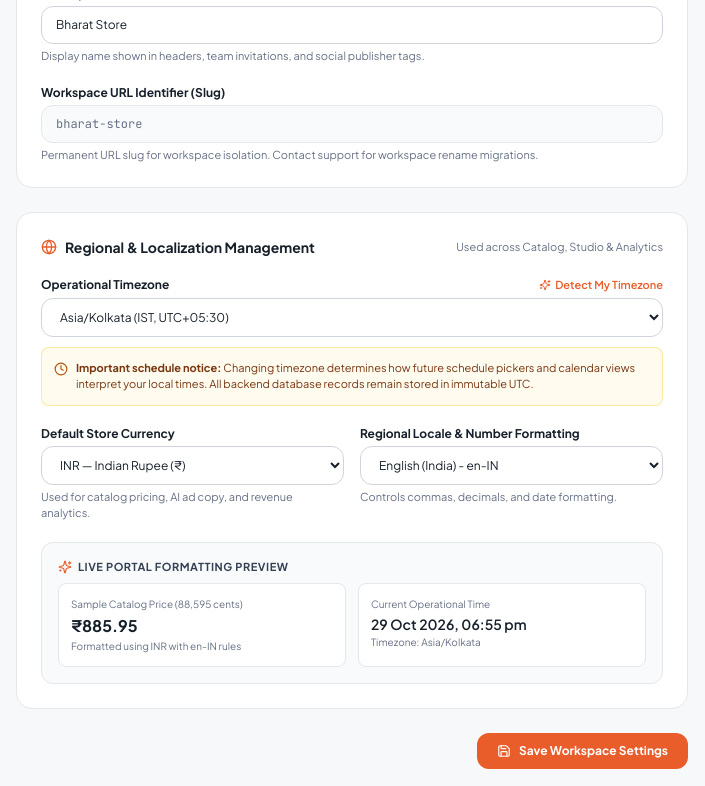
Test case: Workspace Regional & Localization Settings › auto-suggests locale when currency changes
(page scrolled)
Change currency to EUR
Step 1. Select "EUR — Euro (€)" in the dropdown labelled "Default Store Currency" → (192, 465), box [41,446,344,484]
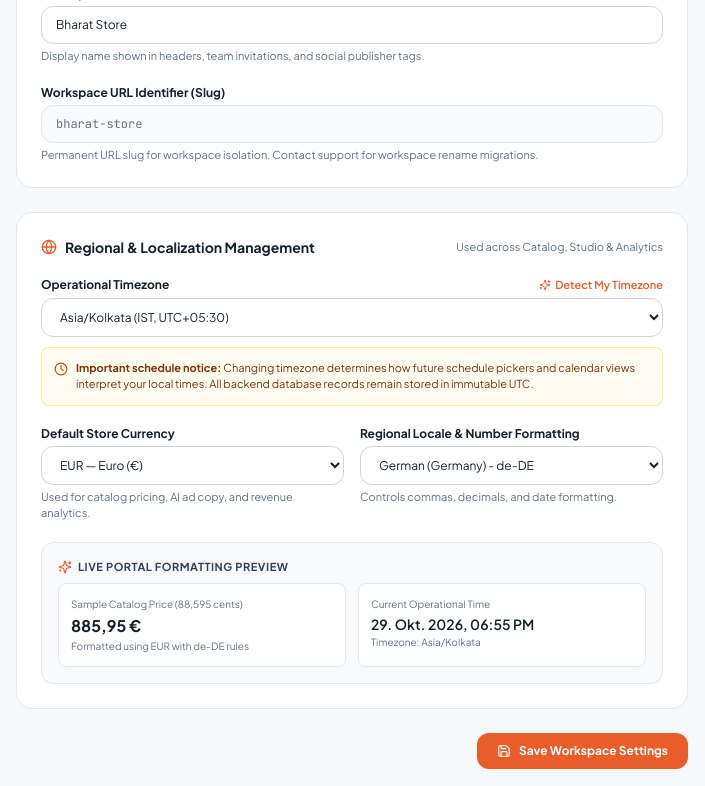
Expected: the text "885,95 €" is shown, [71,615,141,636]
Expected: the dropdown labelled "Regional Locale & Number Formatting" shows "German (Germany) - de-DE", [360,446,663,484]
